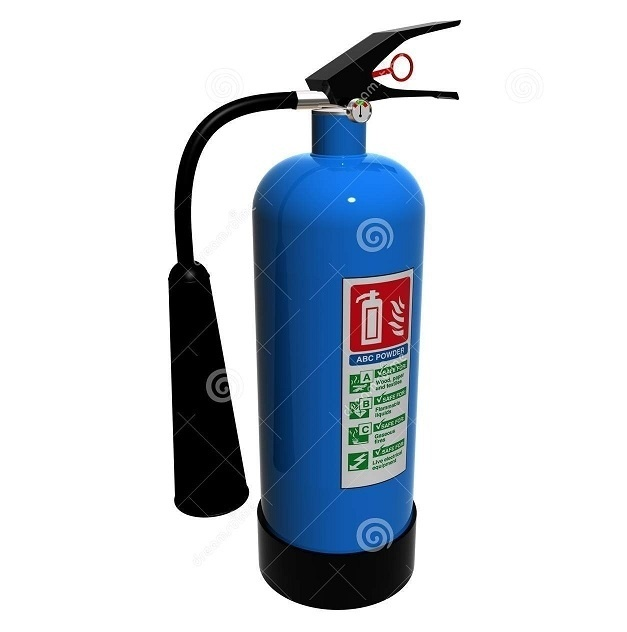fire_extinguisher: (168, 18, 462, 611)
